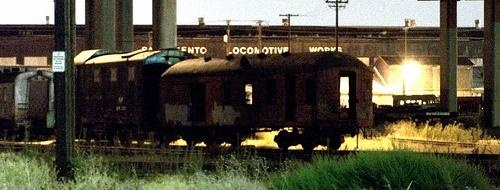train: (3, 46, 374, 150)
